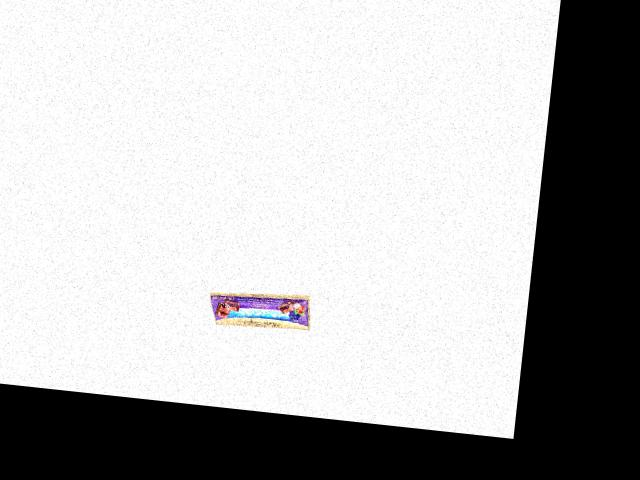chocolate: (202, 283, 313, 330)
